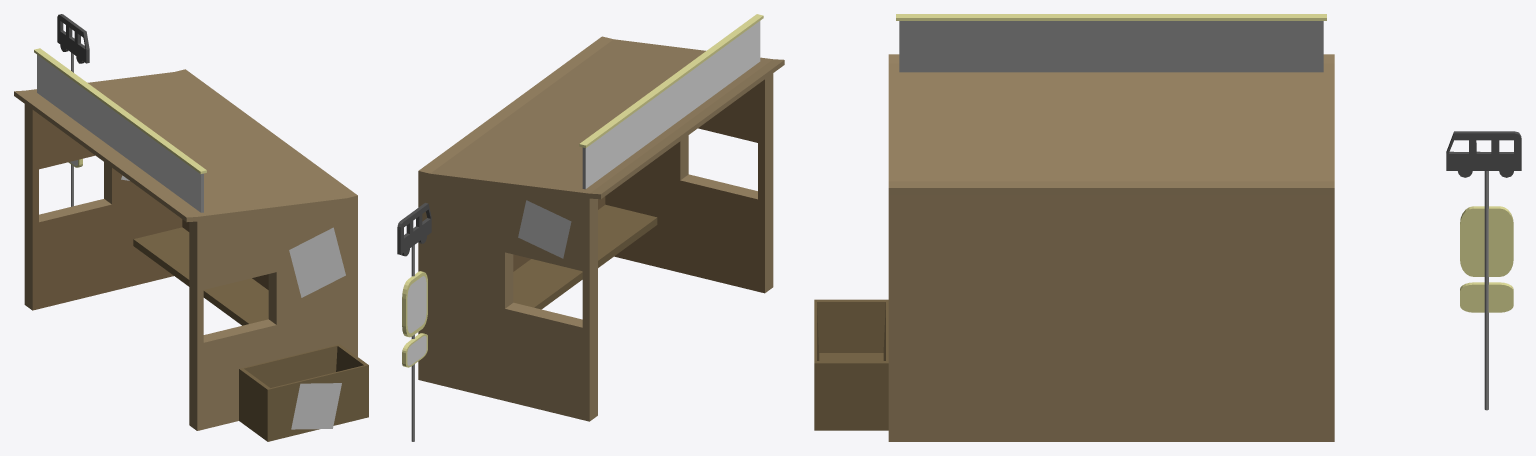
The model's file is ParadaBus (1).fbx.
3 views of the same model, side by side, from view 1: azimuth 30°, elevation 25°; view 2: azimuth 150°, elevation 25°; view 3: azimuth 270°, elevation 25° (orthographic). The views are drawn at different scales.
Parts seen in each view (by area): view 1: Cube, Cube.001, Cube.002, 13, 3.001, Plane; view 2: Cube, Cube.001, 11, Cube.003, Plane, Cube.004, Cylinder; view 3: Cube, Cube.001, Cube.002, Cube.003, Plane, Cube.004, Cylinder.
Boxes of the visible parts, <box> form: Cube: <box>14,69,357,430</box>; Cube.001: <box>34,48,206,212</box>; Cube.002: <box>239,344,368,441</box>; 13: <box>289,227,345,297</box>; 3.001: <box>291,383,341,429</box>; Plane: <box>57,14,89,63</box>; Cube: <box>418,36,784,421</box>; Cube.001: <box>579,14,763,189</box>; 11: <box>518,200,571,258</box>; Cube.003: <box>402,271,427,337</box>; Plane: <box>397,203,431,256</box>; Cube.004: <box>402,333,427,367</box>; Cylinder: <box>411,245,414,441</box>; Cube: <box>888,54,1334,441</box>; Cube.001: <box>896,14,1326,72</box>; Cube.002: <box>814,299,888,430</box>; Cube.003: <box>1460,206,1513,276</box>; Plane: <box>1446,131,1521,177</box>; Cube.004: <box>1460,282,1513,312</box>; Cylinder: <box>1484,171,1488,410</box>.
Bounding box in the file's own units: 341 × 490 × 943.
